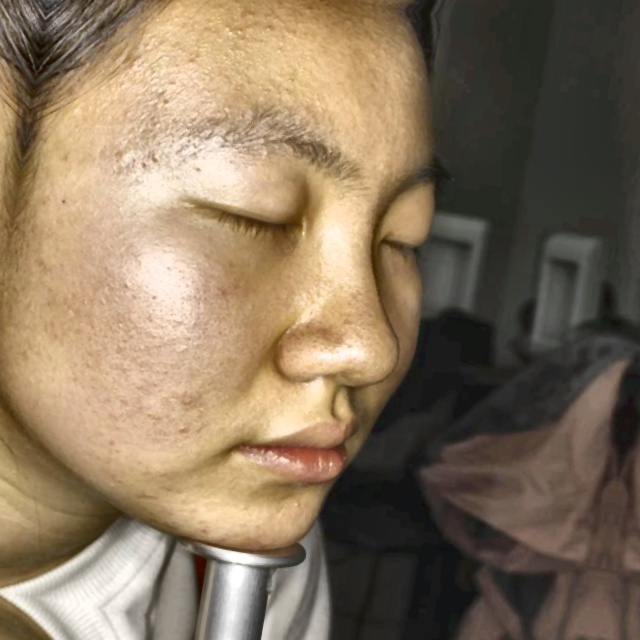comedone: (286, 494, 309, 512)
